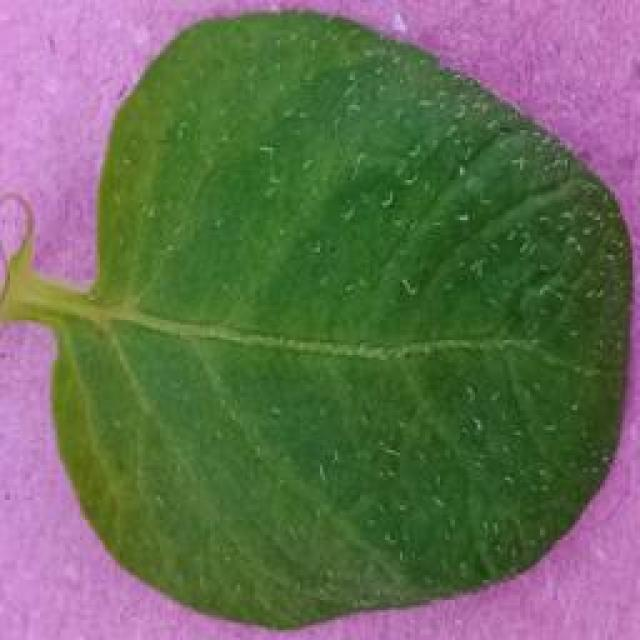Potato_Healthy: (8, 10, 623, 628)
